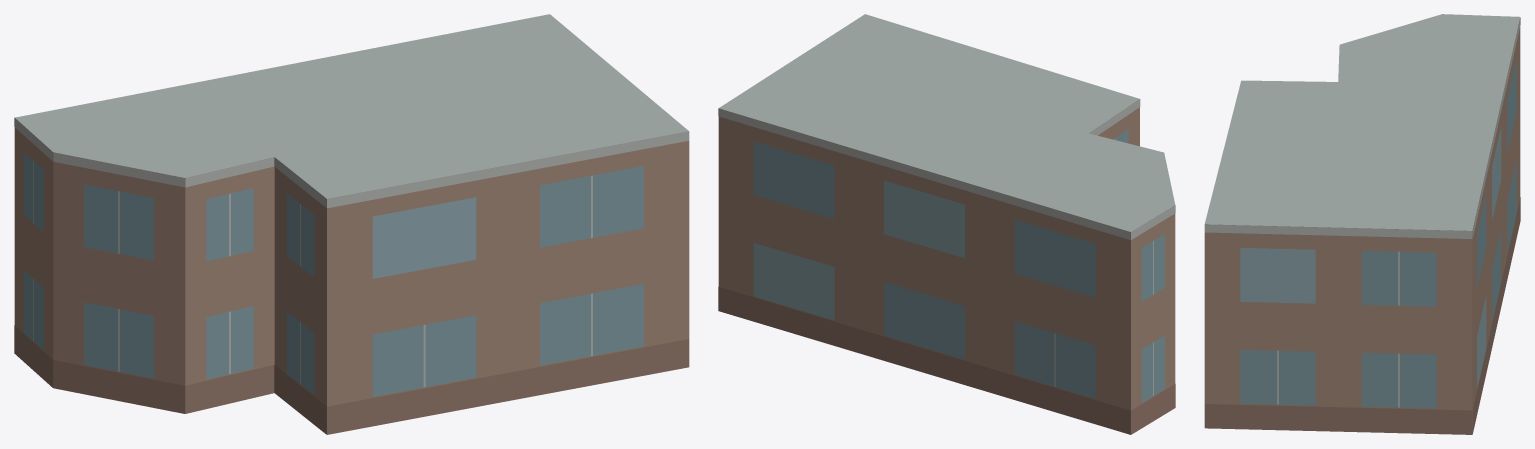
The model's file is survey-upis-32768966.glb.
3 renders of one model, left to right at view 1: azimuth 30°, elevation 25°; view 2: azimuth 150°, elevation 25°; view 3: azimuth 270°, elevation 25°, orthographic. The views are drawn at different scales.
Visible parts, largest first — view 1: survey-upis-32768966.tmp; view 2: survey-upis-32768966.tmp; view 3: survey-upis-32768966.tmp.
Part boxes in pixels (x1,y1,x2,y2): survey-upis-32768966.tmp: (14,14,689,434); survey-upis-32768966.tmp: (718,14,1175,434); survey-upis-32768966.tmp: (1204,14,1520,434).
Size of the model in its own units: 13.92 by 6.1 by 8.57.
